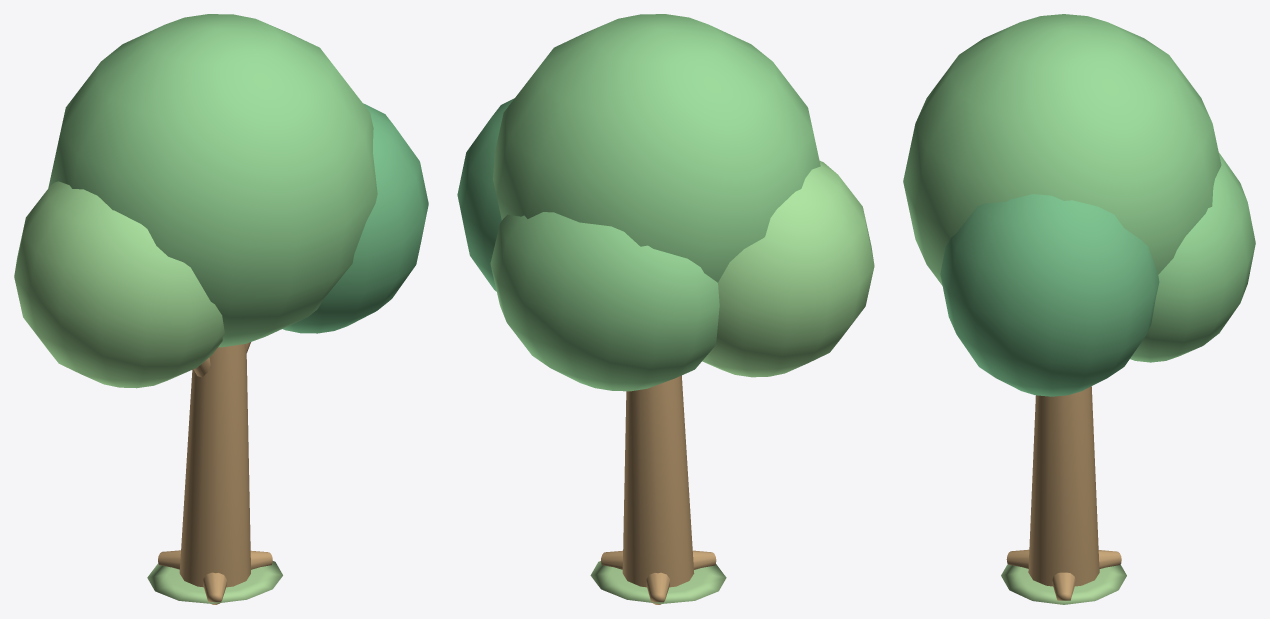
The model's file is tree_v1_summer.glb.
The picture shows the model from 3 angles, left to right: view 1: azimuth 30°, elevation 25°; view 2: azimuth 150°, elevation 25°; view 3: azimuth 270°, elevation 25°; orthographic projection.
Parts seen in each view (by area): view 1: Base_Canopy (×3), Base_Trunk, GroundAccent, Base_Root; view 2: Base_Canopy (×4), Base_Trunk, GroundAccent, Base_Root; view 3: Base_Canopy (×3), Base_Trunk, GroundAccent, Base_Root.
Part boxes in pixels (x1,y1,x2,y2): Base_Canopy (×3): (14, 14, 428, 388); Base_Trunk: (179, 344, 250, 587); GroundAccent: (147, 561, 282, 603); Base_Root: (203, 572, 226, 604); Base_Canopy (×4): (457, 14, 874, 391); Base_Trunk: (622, 375, 694, 587); GroundAccent: (590, 561, 726, 603); Base_Root: (646, 572, 669, 604); Base_Canopy (×3): (903, 14, 1255, 396); Base_Trunk: (1028, 386, 1099, 586); GroundAccent: (1001, 564, 1126, 604); Base_Root: (1052, 572, 1075, 600).
Size of the model in its own units: 3.6 by 4.9 by 2.85.
